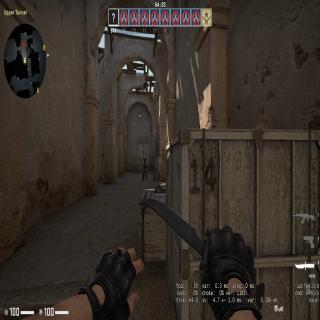CT-Body: (142, 156, 148, 179)
CT-Head: (144, 157, 146, 161)
